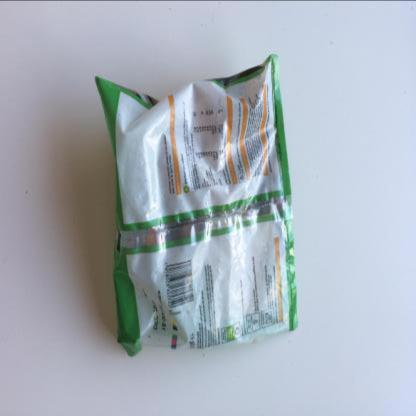Plastic bag - wrapper: (95, 54, 299, 356)
